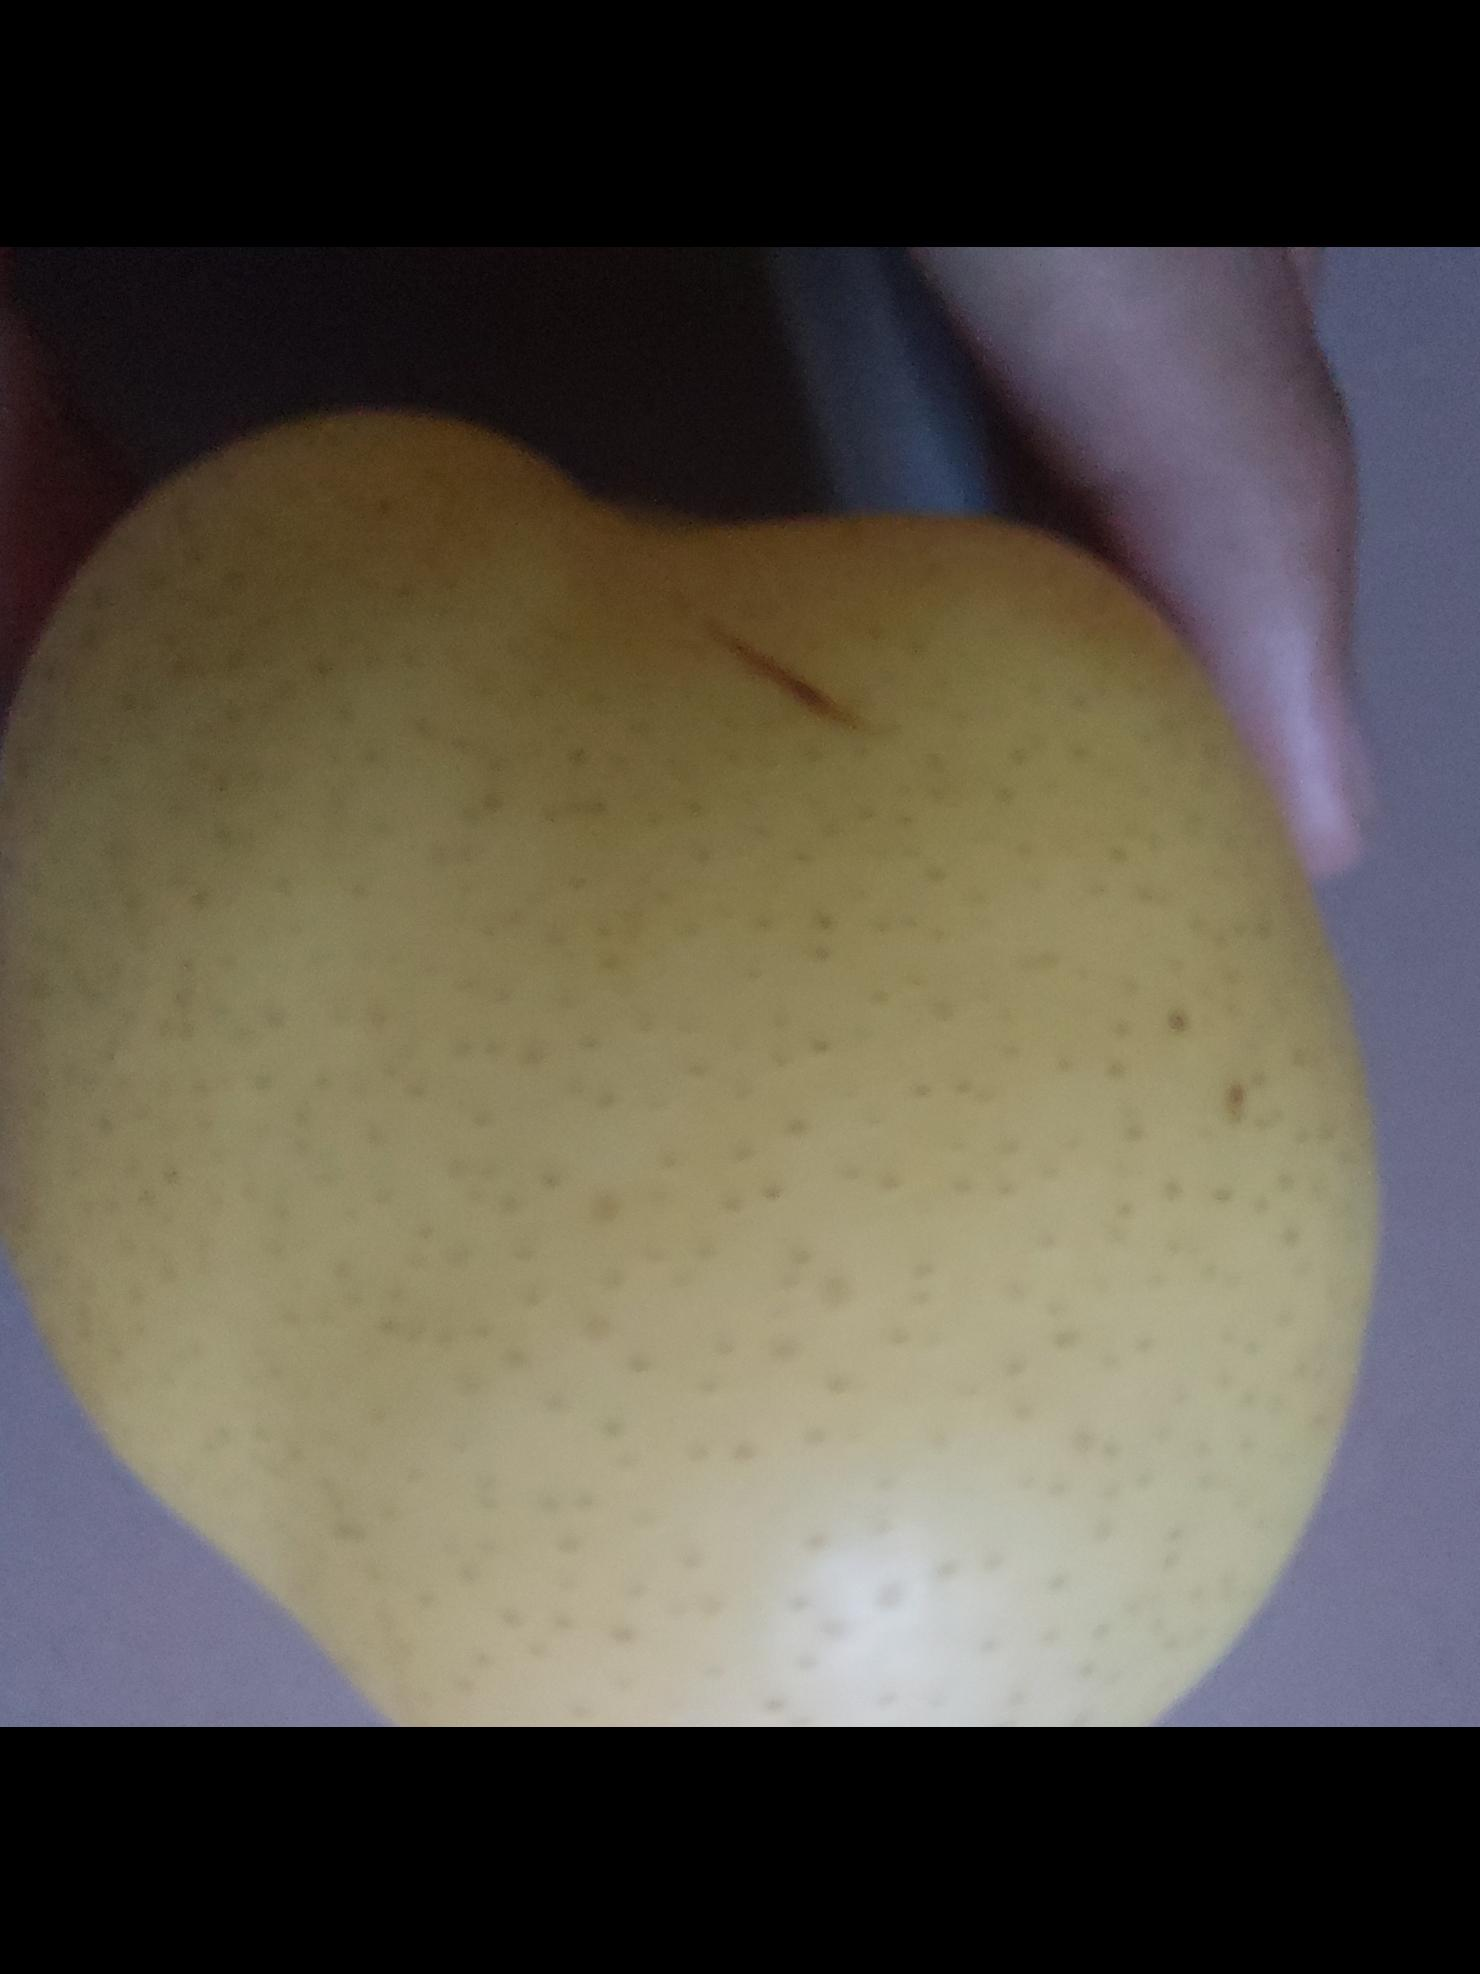Good Pear: (0, 417, 1388, 1727)
